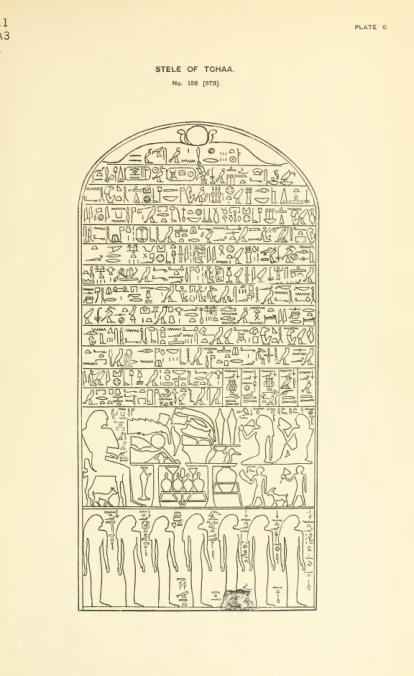circle: (165, 166, 198, 184), (123, 166, 152, 181)
